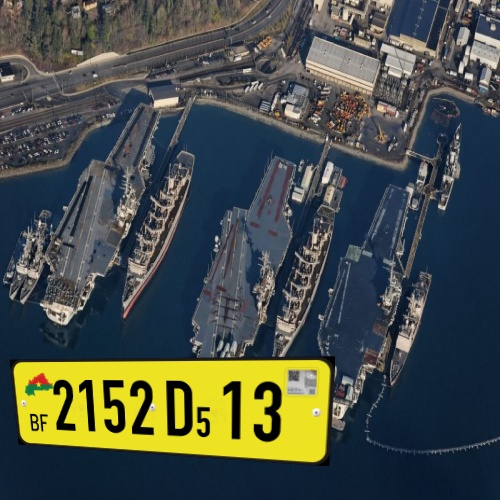plate: (3, 349, 345, 477)
